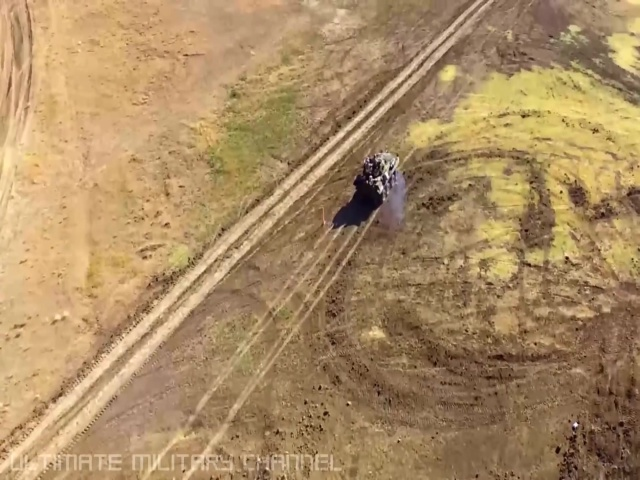vehicle: (354, 150, 401, 204)
